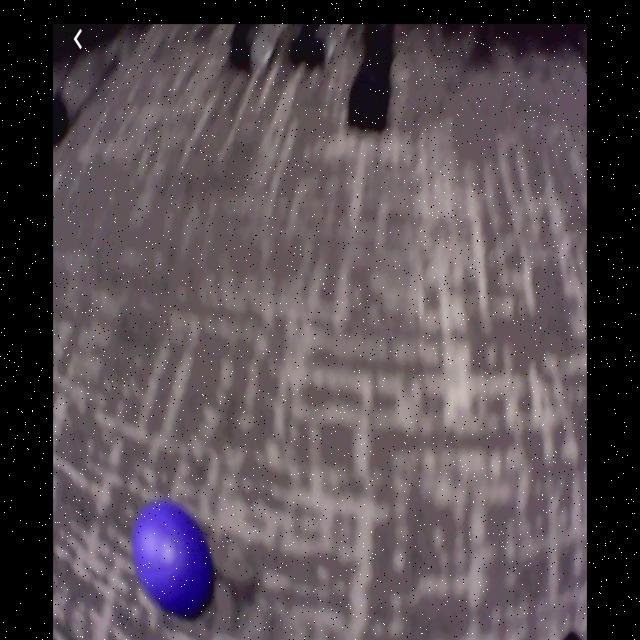ball: (135, 498, 216, 618)
